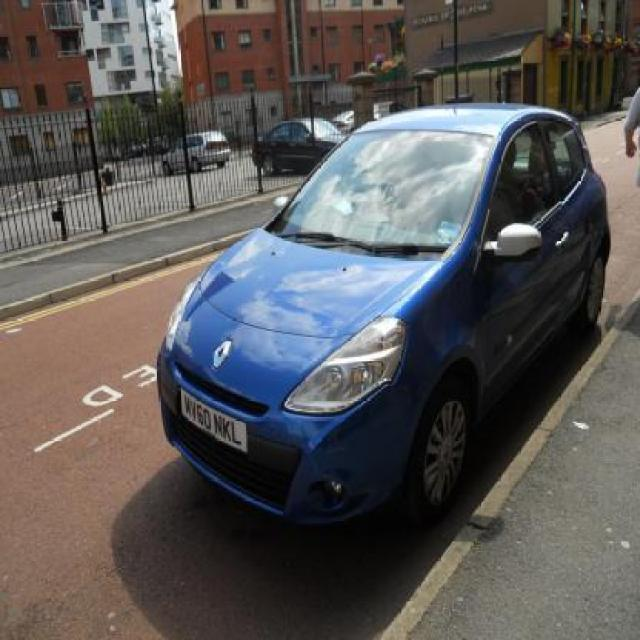License-Plates: (174, 381, 254, 456)
